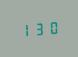one: (18, 21, 30, 37)
three: (32, 20, 44, 36)
zero: (45, 19, 57, 35)
